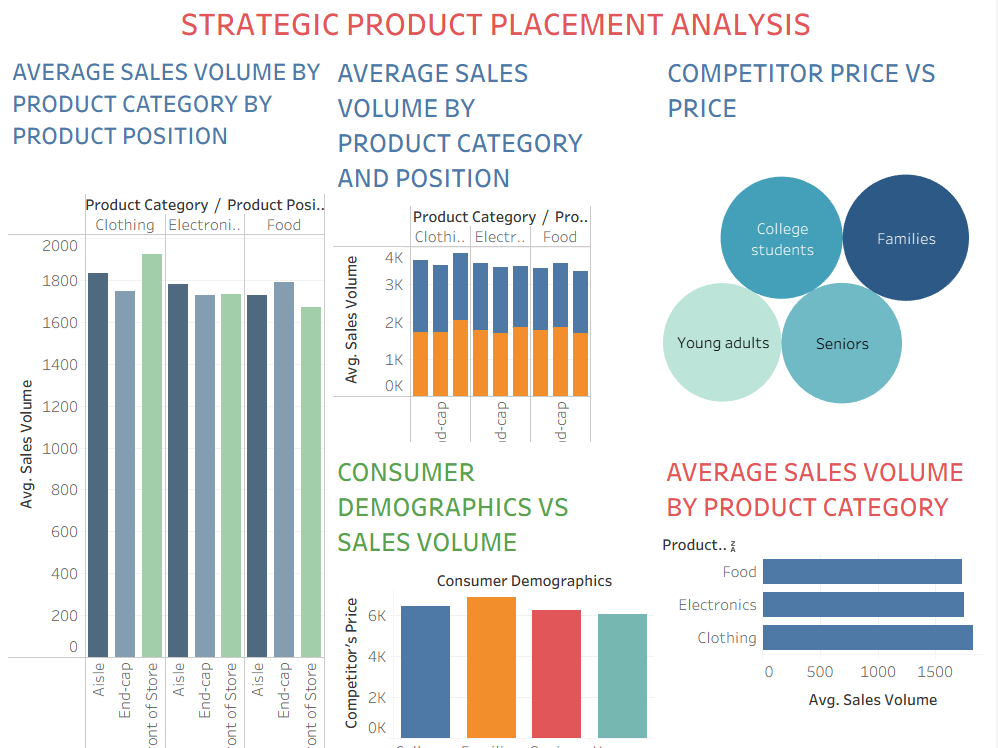

The page's visual inventory and layout, read from the dashboard file:
{"tool":"tableau","page":{"name":"Dashboard 1","canvas":[1000,800],"ordinal":0},"visuals":[{"type":"title","box":[8,8,984,49]},{"type":"worksheet","title":"Sheet 2","mark":"Automatic","rows":["Sales Volume"],"cols":["Product Category","Product Position"],"box":[8,57,325,735]},{"type":"worksheet","title":"Sheet 3","mark":"Automatic","rows":["Sales Volume"],"cols":["Product Category","Product Position"],"box":[333,57,330,399.4]},{"type":"worksheet","title":"Sheet 4","mark":"Circle","box":[663,57,329,399.4]},{"type":"worksheet","title":"Sheet 5","mark":"Automatic","rows":["Competitor's Price"],"cols":["Consumer Demographics"],"box":[333,456.4,329.5,335.6]},{"type":"worksheet","title":"Sheet 1","mark":"Automatic","rows":["Product Category"],"cols":["Sales Volume"],"box":[662.5,456.4,329.5,335.6]}]}

Visuals, with their boxes on the page's 1000x800 design canvas (x1, y1, x2, y2). These are canvas units, not pixel positions in the 998x748 screenshot, which may show the page scaled, cropped or inside an application window:
title: (left=8, top=8, right=992, bottom=57)
"Sheet 2" worksheet: (left=8, top=57, right=333, bottom=792)
"Sheet 3" worksheet: (left=333, top=57, right=663, bottom=456)
"Sheet 4" worksheet (Circle marks): (left=663, top=57, right=992, bottom=456)
"Sheet 5" worksheet: (left=333, top=456, right=662, bottom=792)
"Sheet 1" worksheet: (left=662, top=456, right=992, bottom=792)
